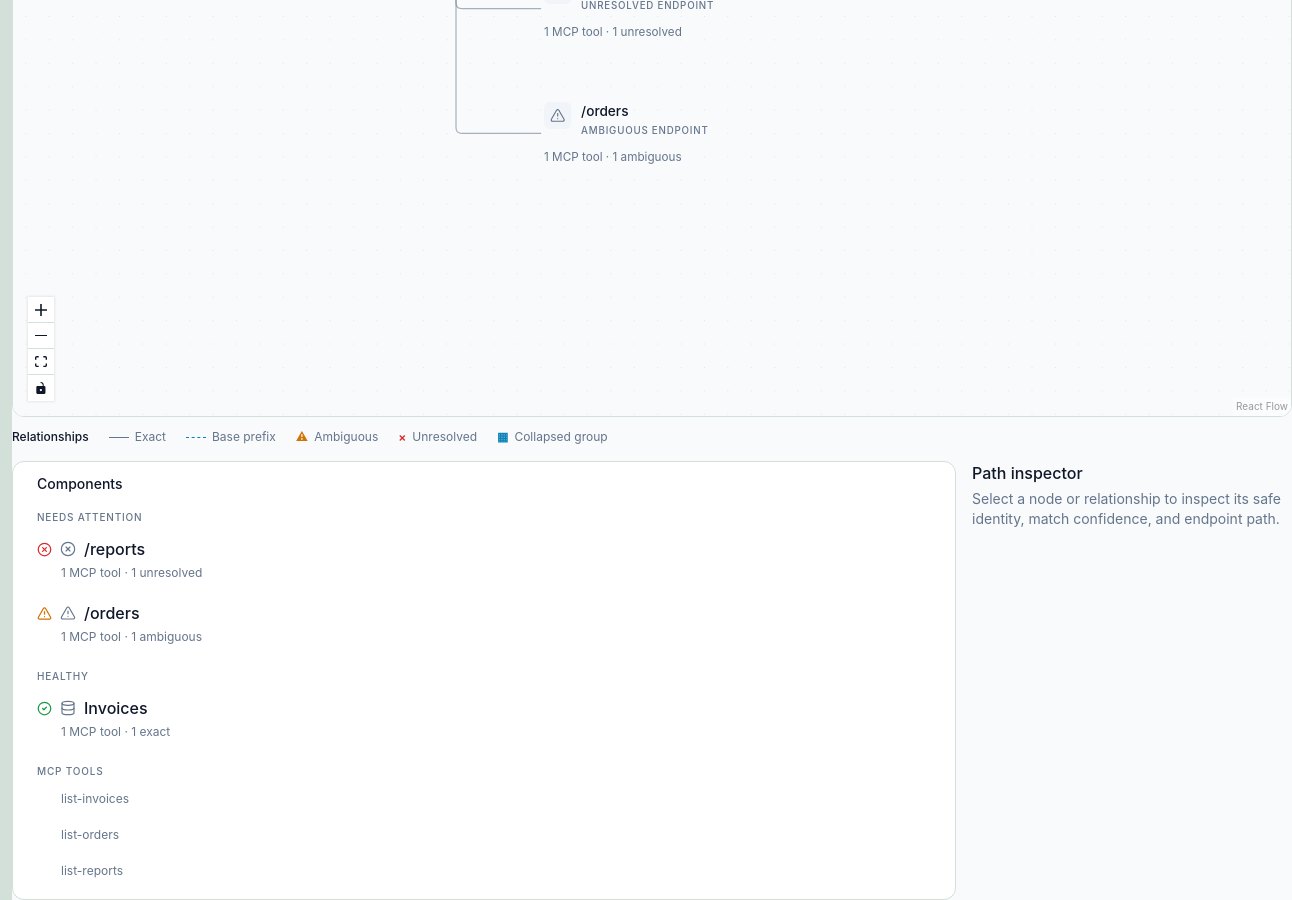
Scenario: component menu drills into ERP API, ambiguous, unresolved, and MCP tool components
(page scrolled)
Expected: the button with aria-label "Show component for Invoices" is shown, [25,688,943,748]
Expected: the button with aria-label "Show component for /orders" is shown, [25,593,943,653]
Click the button with aria-label "Show component for list-invoices" at (95, 798), box [25,783,943,815]
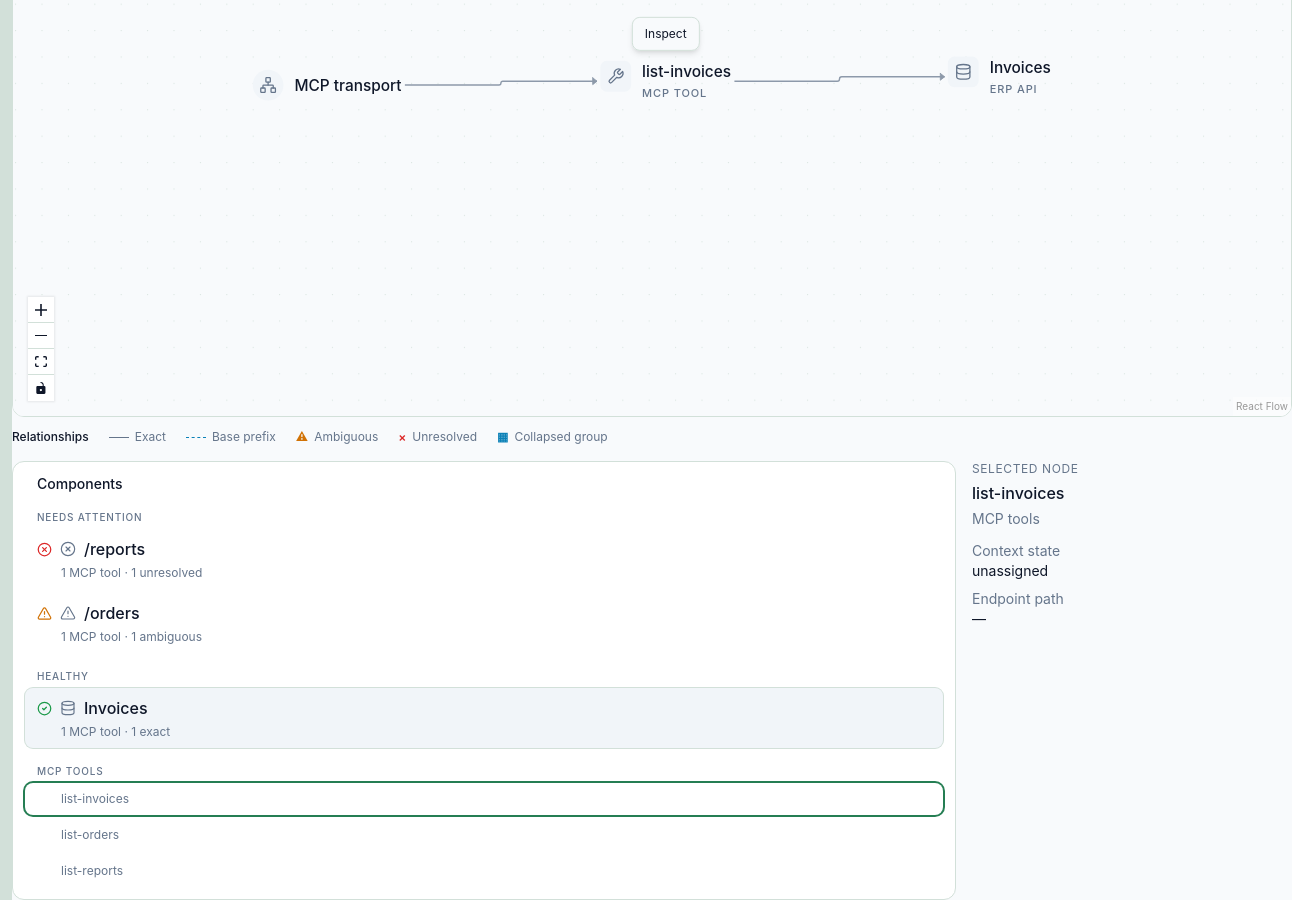
Expected: the heading "list-invoices" is shown, [972,483,1064,503]
